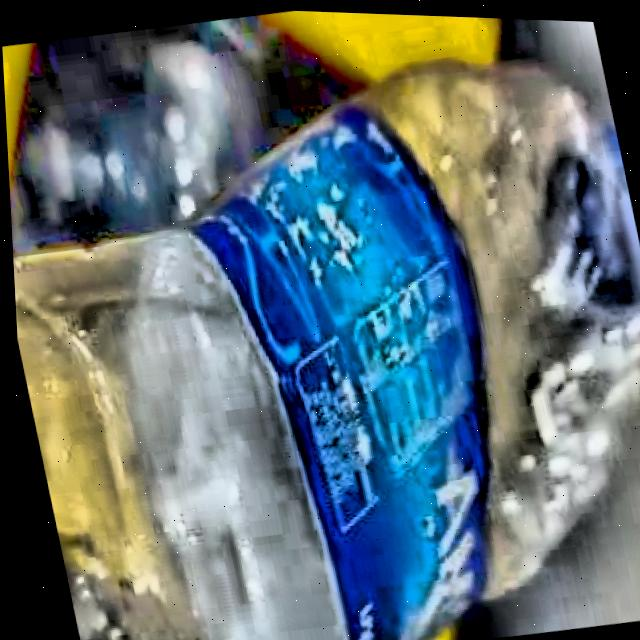plastic: (11, 54, 640, 640)
